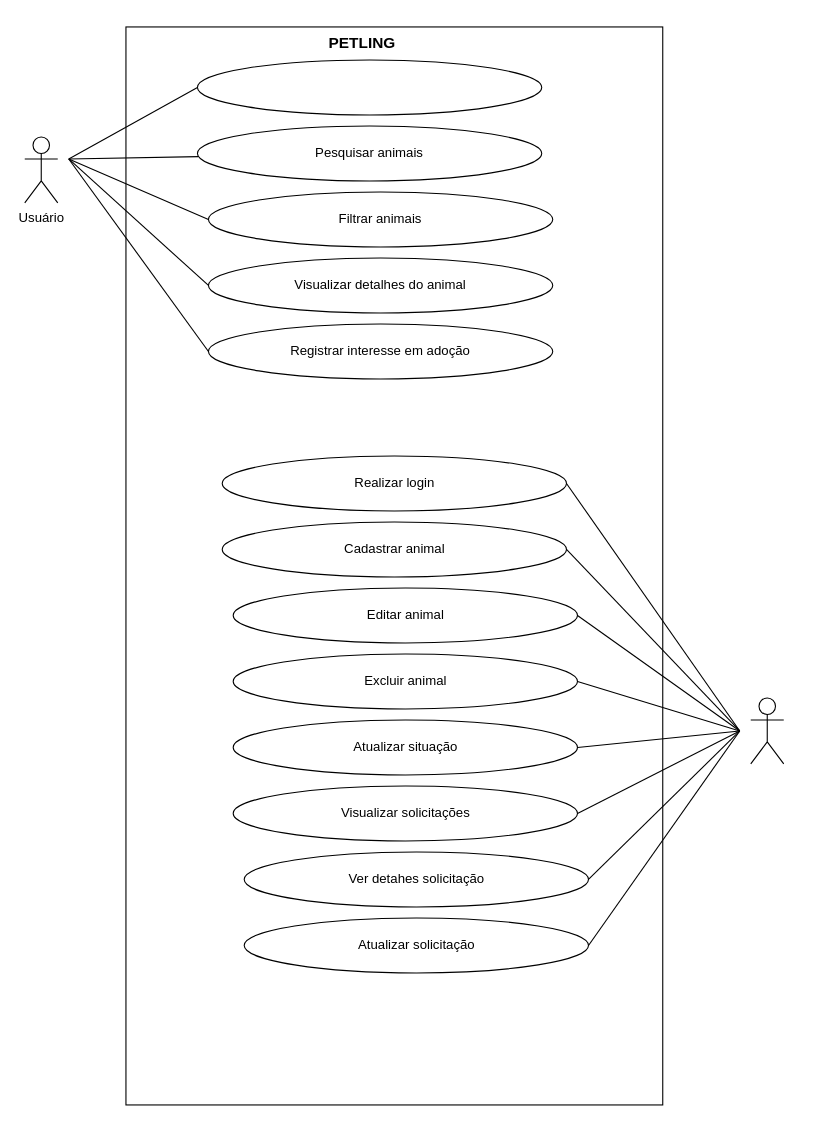
This 827x1124 diagram has some shape labels left out. Each missing label, with the centre of its shape:
"Administrador" belongs at (767,730).
"Consultar animais" belongs at (369,87).
